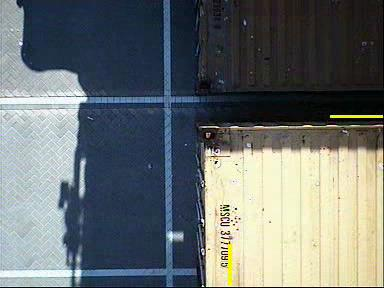groundmarker_2: (172, 166, 222, 237)
